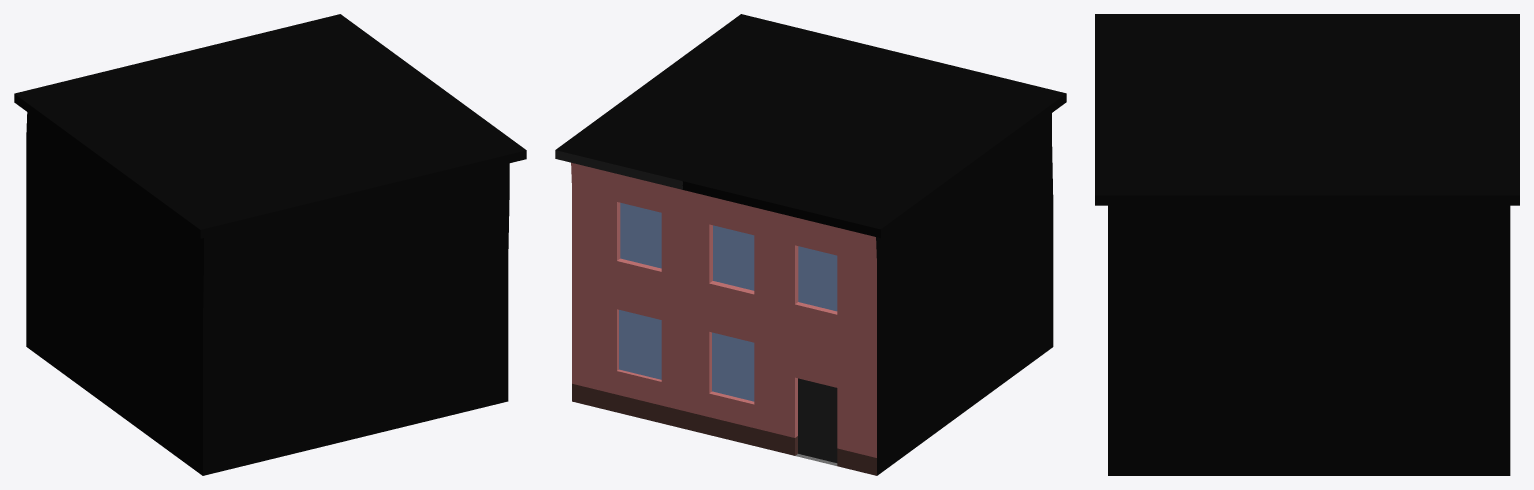
File: house.glb
3 renders of one model, left to right at view 1: azimuth 30°, elevation 25°; view 2: azimuth 150°, elevation 25°; view 3: azimuth 270°, elevation 25°, orthographic. The views are drawn at different scales.
Visible parts, largest first — view 1: Cube; view 2: Cube; view 3: Cube.
Part boxes in pixels (left/top/right/bottom): Cube: left=14, top=14, right=526, bottom=475; Cube: left=555, top=14, right=1066, bottom=475; Cube: left=1095, top=14, right=1519, bottom=475.
Bounding box in the file's own units: 2.13 × 1.58 × 2.11.
1 material, 1 textured.
